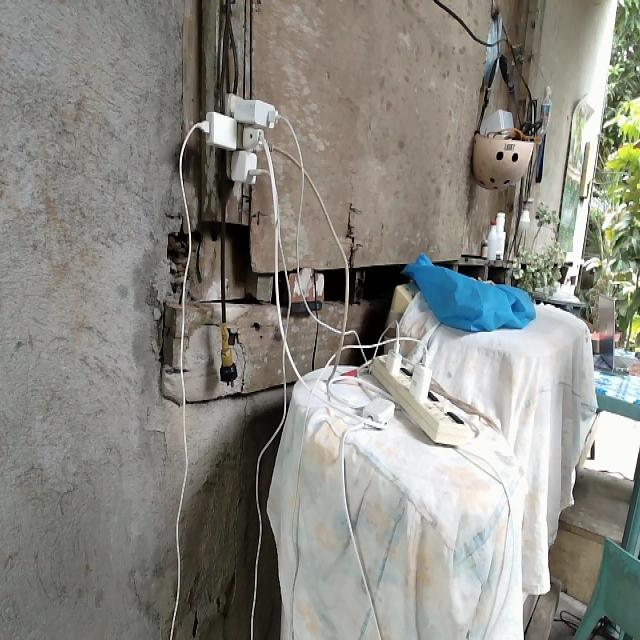-: (196, 91, 287, 185)
